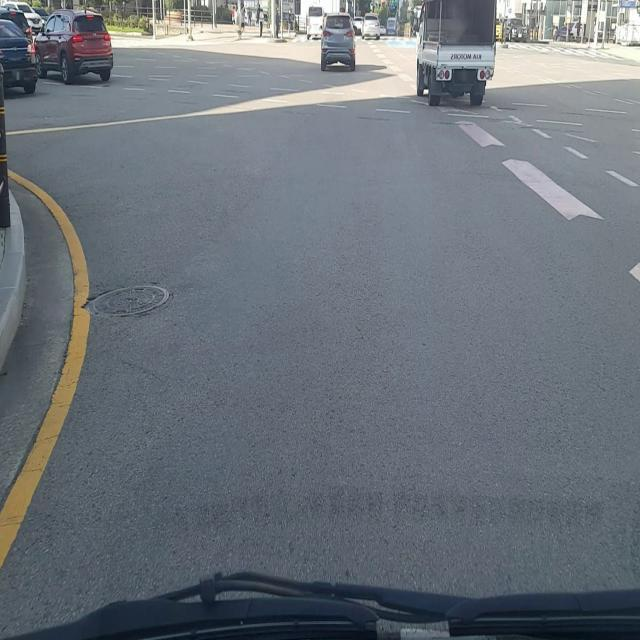pothole: (82, 284, 173, 318)
